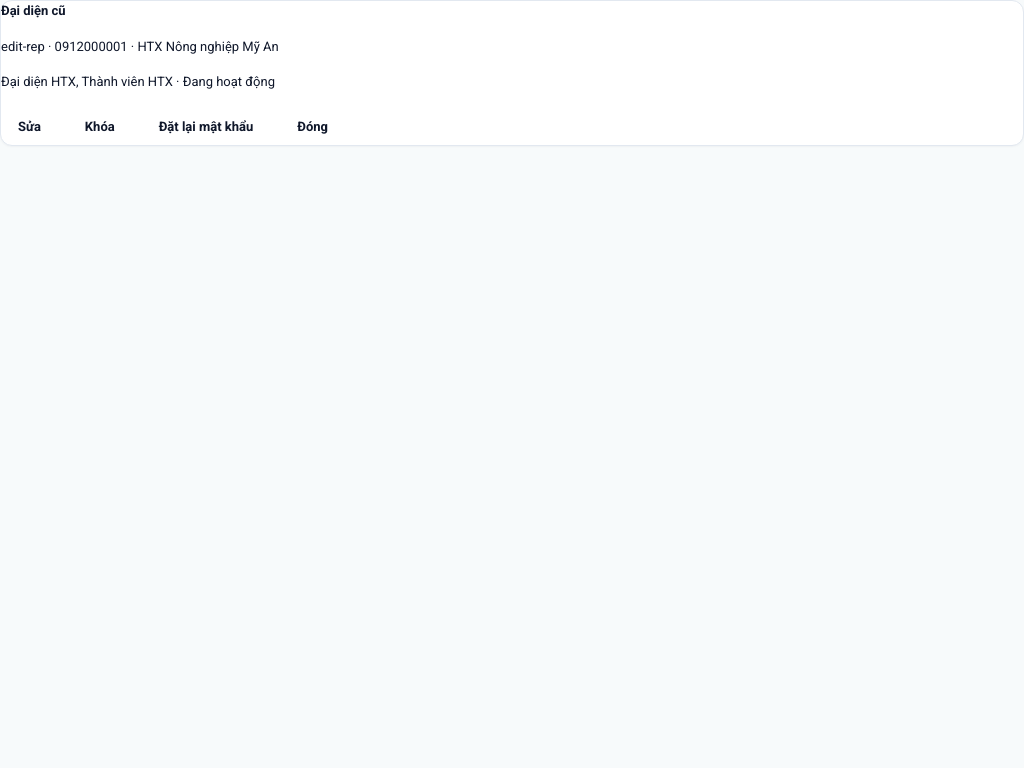
Test case: [AH-223 FN-TK-02/EX-04] khóa Đại diện HTX cuối cùng hỏi xác nhận; Hủy không khóa, Tiếp tục khóa
The width and height of the screenshot is (1024, 768).
Step 1. Click the button "Khóa" → [100, 126], box [68,108,132,145]
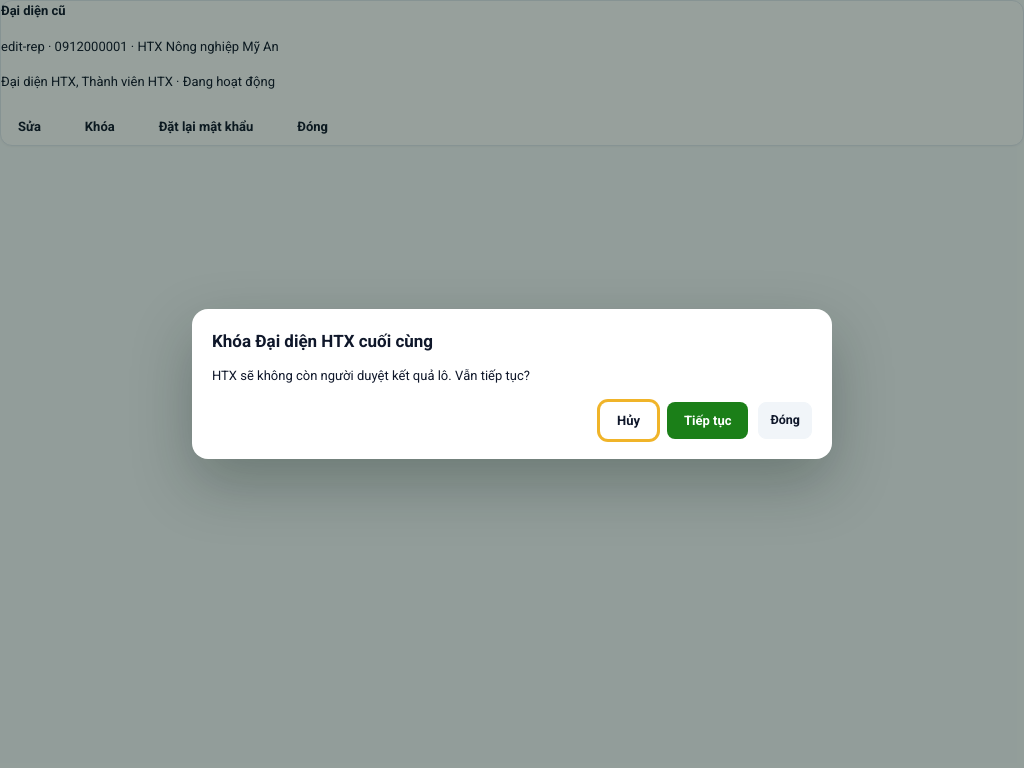
Result: the text "HTX sẽ không còn người duyệt kết quả lô. Vẫn tiếp tục?" is shown at [212,368,530,383]
Step 2. Click the button "Hủy" → [628, 421], box [600,402,657,439]
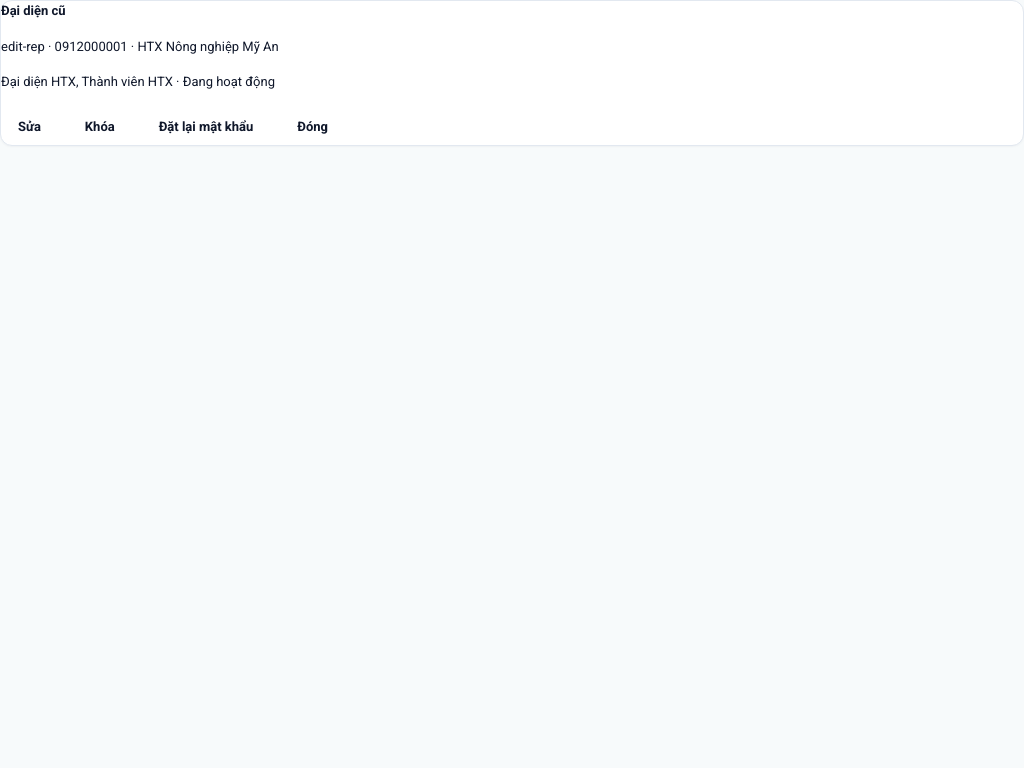
Result: the dialog is gone
Step 3. Click the button "Khóa" → [100, 126], box [68,108,132,145]
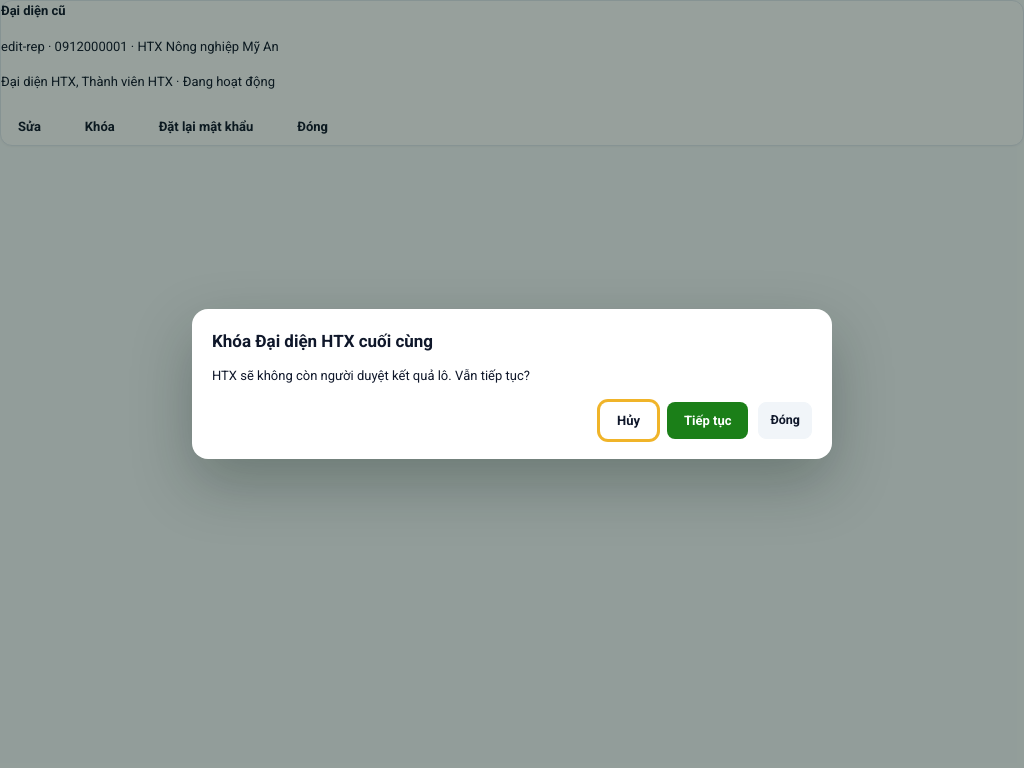
Step 4. Click the button "Tiếp tục" → [708, 421], box [667,402,748,439]
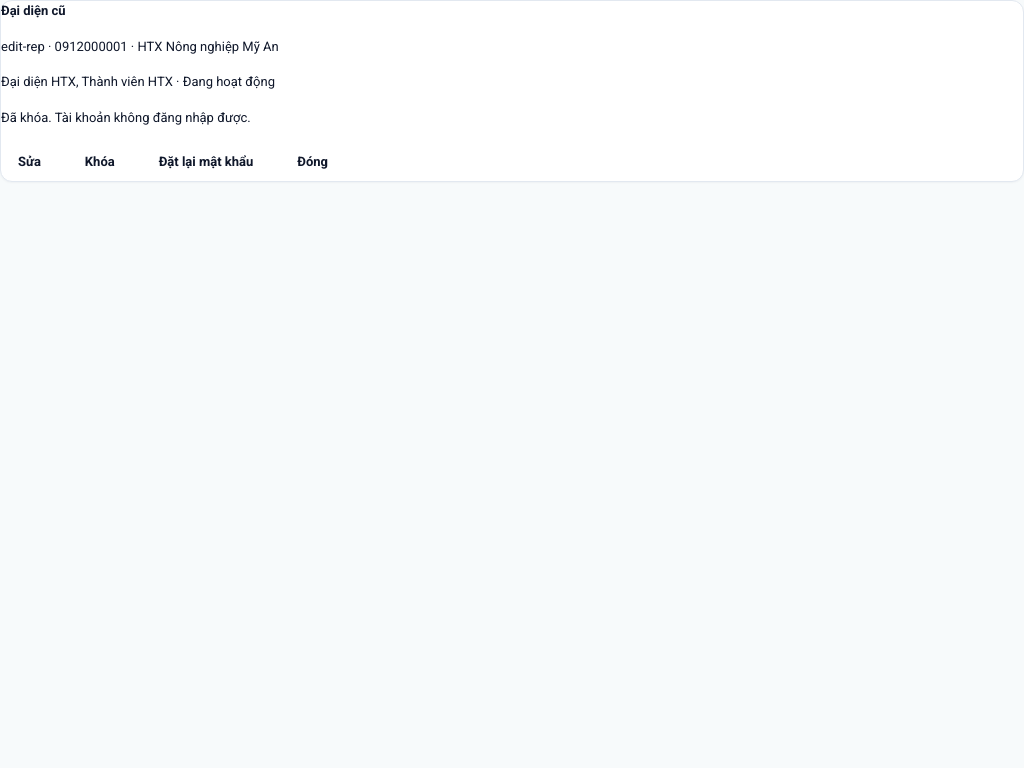
Result: the message shows "Đã khóa." at [1,110,251,124]
